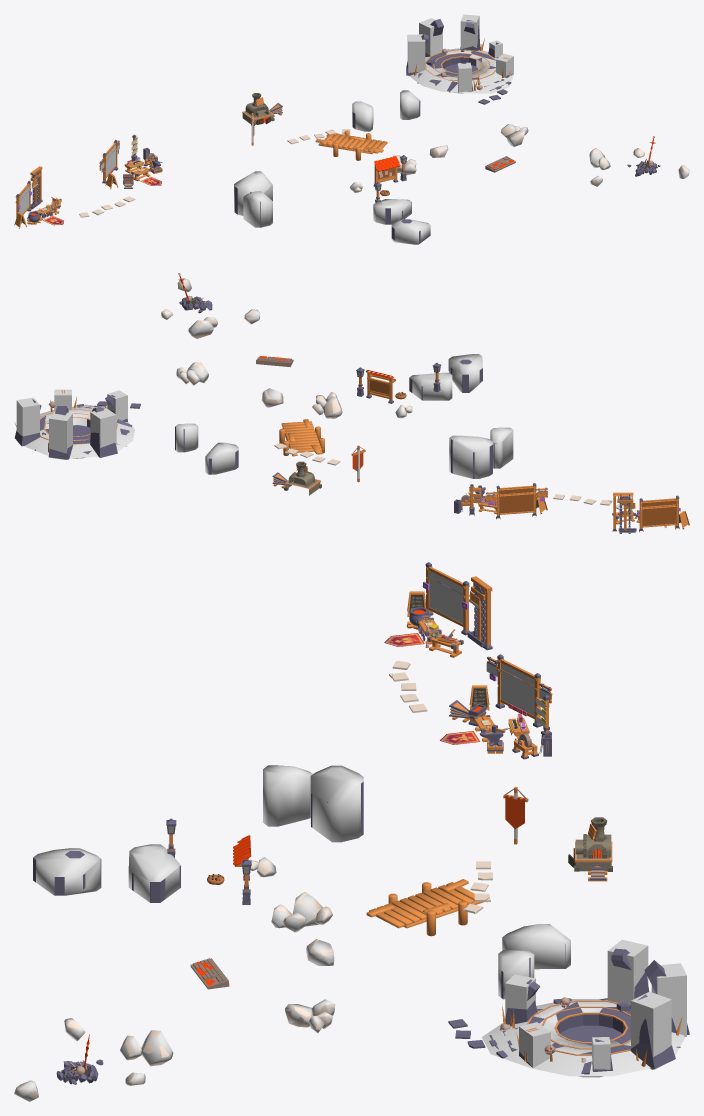
File: sceneryStatic.glb
3 renders of one model, top to bottom at view 1: azimuth 30°, elevation 25°; view 2: azimuth 150°, elevation 25°; view 3: azimuth 270°, elevation 25°, orthographic. The views are drawn at different scales.
Parts seen in each view (by area): view 1: trimesh.001, Cube.139, hull.016, Cylinder.021, hull.015, hull.011, hull.012, Cube.165, Cube.172, hull.014, Cube.146, Cube.164 (+5 smaller); view 2: hull.015, trimesh.001, Cube.139, Cube.172, hull.012, hull.011, Cube.164, Cylinder.022, Cube.146, hull.016, Cube.165, hull.014 (+9 smaller); view 3: trimesh.001, hull.015, Cube.139, hull.016, Cube.172, Cylinder.021, hull.011, hull.014, hull.012, Cube.146, Cube.165, Cube.164 (+7 smaller).
Part boxes in pixels (x1=…): trimesh.001: x1=410, y1=48, x2=514, y2=93; Cube.139: x1=315, y1=130, x2=387, y2=160; hull.016: x1=243, y1=191, x2=272, y2=227; Cylinder.021: x1=426, y1=51, x2=511, y2=90; hull.015: x1=234, y1=171, x2=272, y2=215; hull.011: x1=391, y1=219, x2=430, y2=244; hull.012: x1=373, y1=199, x2=411, y2=224; Cube.165: x1=407, y1=34, x2=425, y2=76; Cube.172: x1=406, y1=19, x2=498, y2=92; hull.014: x1=352, y1=101, x2=373, y2=131; Cube.146: x1=460, y1=14, x2=479, y2=49; Cube.164: x1=419, y1=18, x2=442, y2=56; hull.015: x1=449, y1=435, x2=492, y2=478; trimesh.001: x1=25, y1=404, x2=134, y2=458; Cube.139: x1=279, y1=419, x2=324, y2=456; Cube.172: x1=14, y1=395, x2=127, y2=459; hull.012: x1=409, y1=372, x2=452, y2=400; hull.011: x1=449, y1=354, x2=482, y2=392; Cube.164: x1=49, y1=411, x2=72, y2=459; Cylinder.022: x1=175, y1=359, x2=496, y2=478; Cube.146: x1=16, y1=397, x2=39, y2=446; hull.016: x1=490, y1=427, x2=513, y2=468; Cube.165: x1=90, y1=408, x2=116, y2=447; hull.014: x1=205, y1=442, x2=238, y2=474; trimesh.001: x1=481, y1=999, x2=684, y2=1077; hull.015: x1=310, y1=765, x2=363, y2=842; Cube.139: x1=366, y1=879, x2=486, y2=936; hull.016: x1=263, y1=765, x2=312, y2=826; Cube.172: x1=505, y1=948, x2=689, y2=1071; Cylinder.021: x1=489, y1=1001, x2=630, y2=1058; hull.011: x1=33, y1=848, x2=100, y2=895; hull.014: x1=502, y1=924, x2=570, y2=969; hull.012: x1=128, y1=844, x2=180, y2=902; Cube.146: x1=631, y1=991, x2=671, y2=1069; Cube.165: x1=607, y1=939, x2=648, y2=1005; Cube.164: x1=651, y1=963, x2=686, y2=1036.
Bounding box in the file's own units: 84.82 × 8.2 × 50.04.
26 materials, 4 textured.
